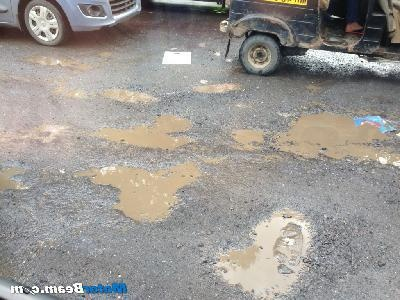pothole: (209, 199, 322, 298), (268, 102, 399, 169), (87, 155, 206, 227), (88, 110, 197, 150), (99, 83, 157, 105), (227, 123, 269, 151), (0, 161, 32, 194), (190, 78, 242, 95)
